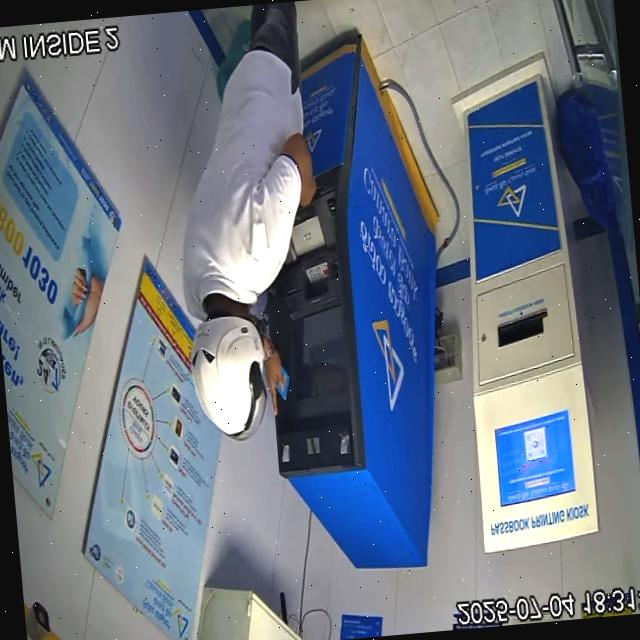helmet: (190, 294, 267, 442)
